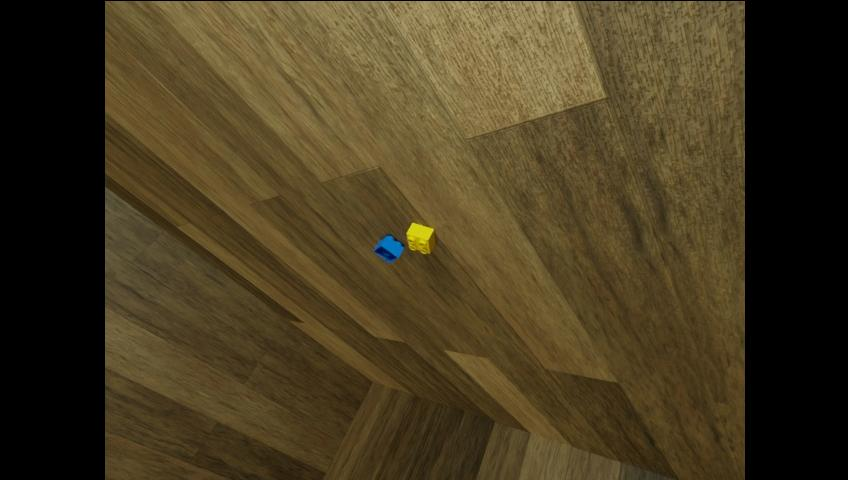2x2_blue: (373, 234, 403, 263)
2x2_yellow: (407, 223, 435, 254)
